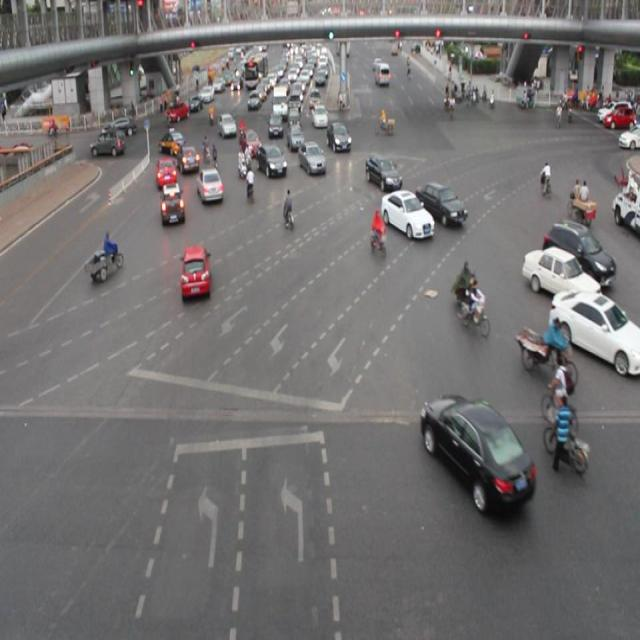car: (421, 394, 533, 509), (548, 289, 640, 370), (543, 216, 613, 286), (522, 246, 596, 304), (378, 189, 434, 239), (415, 180, 465, 224), (180, 244, 212, 299), (364, 153, 400, 194), (160, 184, 187, 226), (257, 143, 287, 179), (196, 166, 224, 204), (297, 141, 326, 175), (177, 142, 200, 174), (156, 155, 177, 190)
